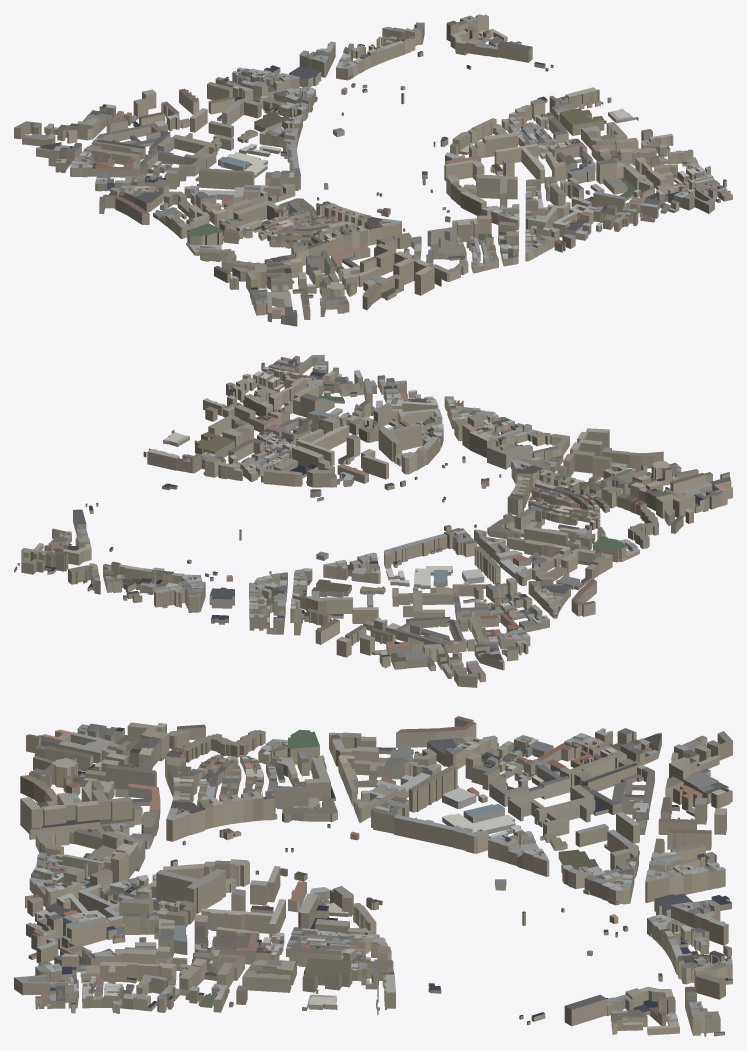
3 views of the same model, one above another, from view 1: azimuth 30°, elevation 25°; view 2: azimuth 150°, elevation 25°; view 3: azimuth 270°, elevation 25° (orthographic). The views are drawn at different scales.
Visible parts, largest first — view 1: tuile; view 2: tuile; view 3: tuile.
Boxes of the visible parts, <box> form: tuile: <box>14,14,732,326</box>; tuile: <box>14,355,732,687</box>; tuile: <box>14,716,732,1036</box>.
Bounding box in the file's own units: 1037 × 84.35 × 1027.
